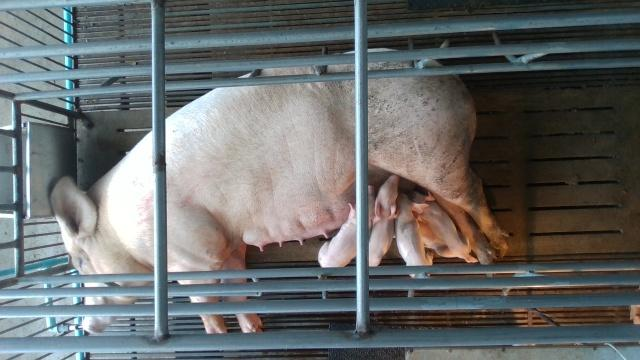piglet: (317, 184, 375, 268), (414, 193, 477, 263), (395, 192, 433, 278), (368, 174, 400, 266)
sow-sleep-lactate: (52, 47, 508, 332)
